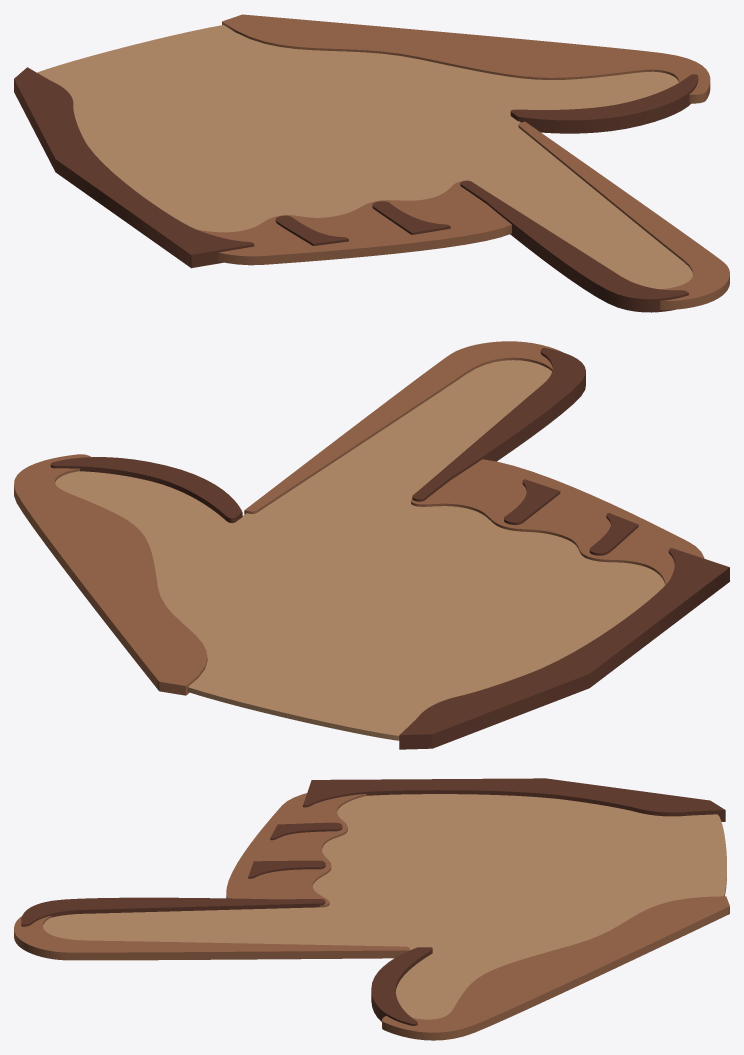
File: emoji_u1f447_1f3fd.glb
3 views of the same model, one above another, from view 1: azimuth 30°, elevation 25°; view 2: azimuth 150°, elevation 25°; view 3: azimuth 270°, elevation 25° (orthographic). The views are drawn at different scales.
Parts seen in each view (by area): view 1: emoji_u1f447_1f3fd; view 2: emoji_u1f447_1f3fd; view 3: emoji_u1f447_1f3fd.
Part boxes in pixels (x1,y1,x2,y2): emoji_u1f447_1f3fd: (14,14,729,312); emoji_u1f447_1f3fd: (14,341,729,749); emoji_u1f447_1f3fd: (14,778,729,1040).
Size of the model in its own units: 0.0276 by 0.0006 by 0.0331.
